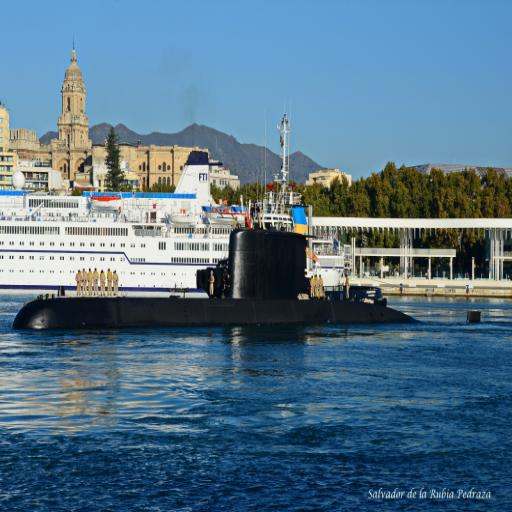submarine: (2, 229, 482, 327)
